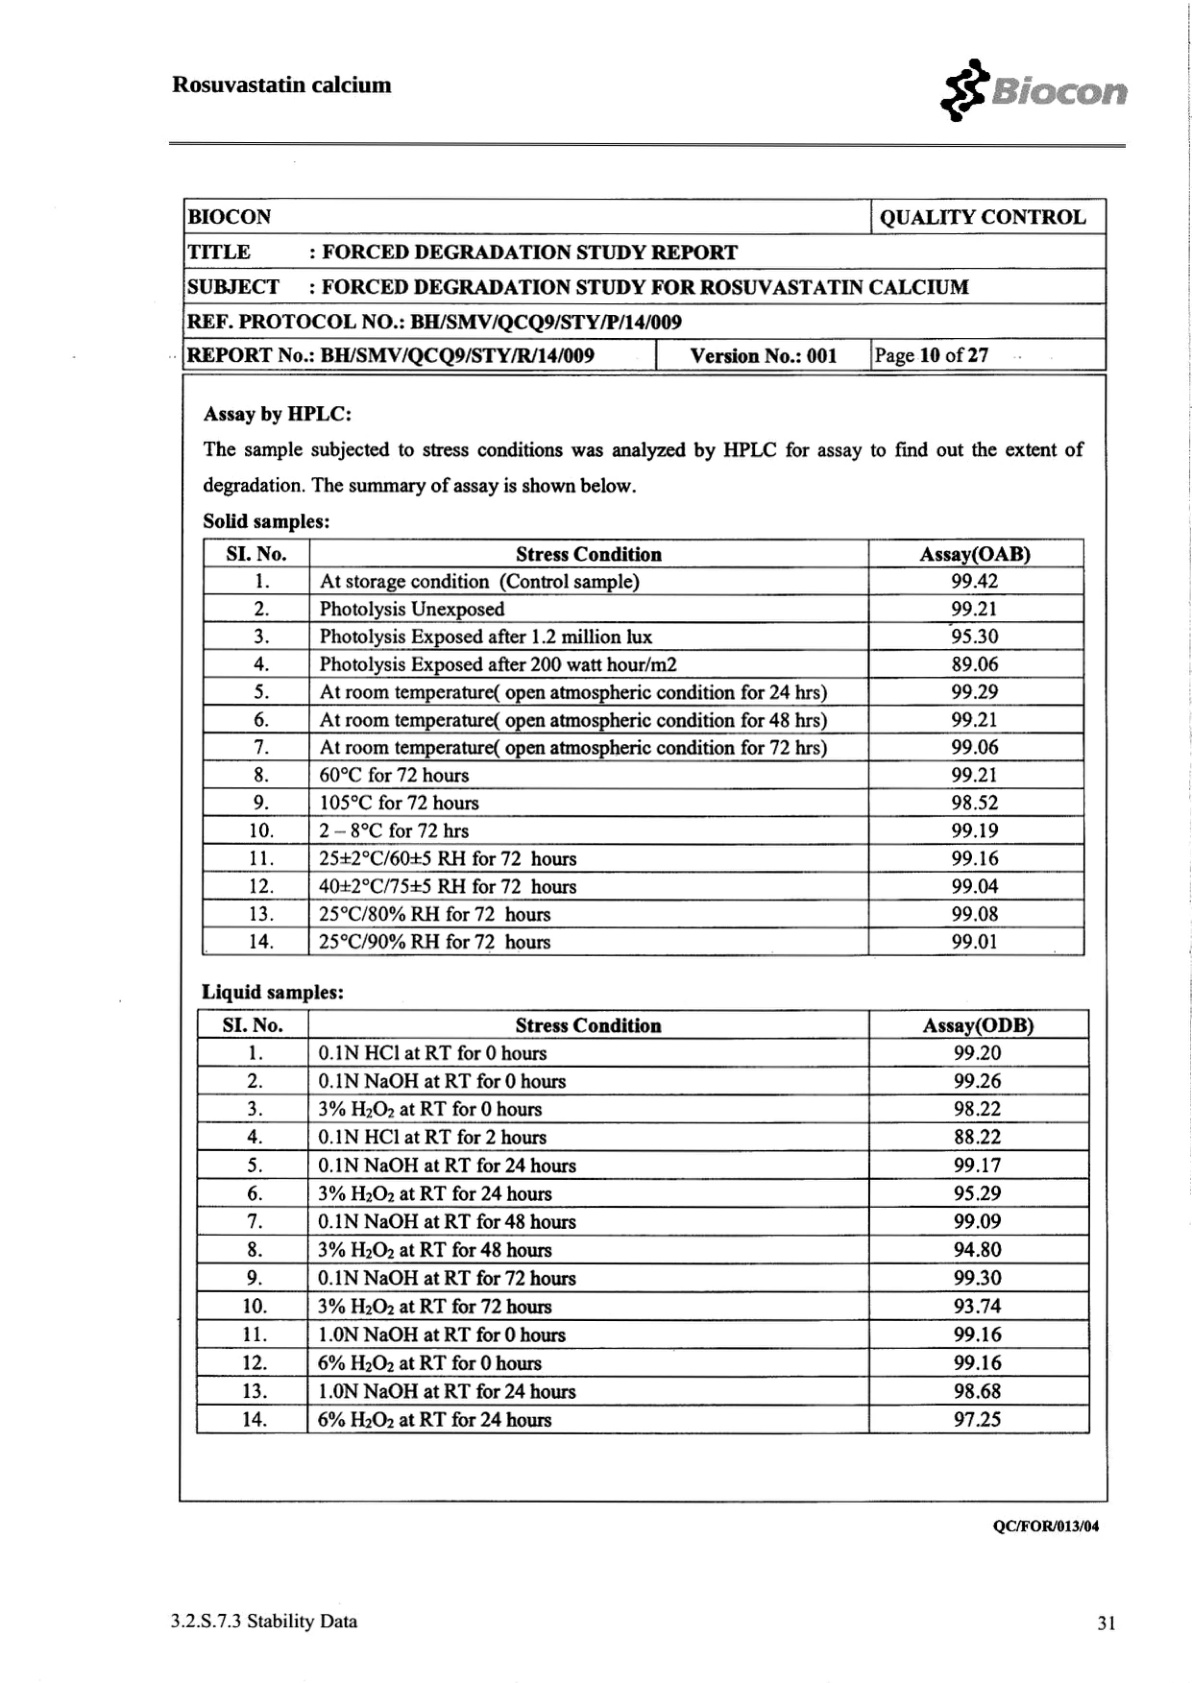full_lined: (196, 1007, 1091, 1435), (201, 536, 1086, 957)
merged_cells: (181, 196, 1108, 371)
